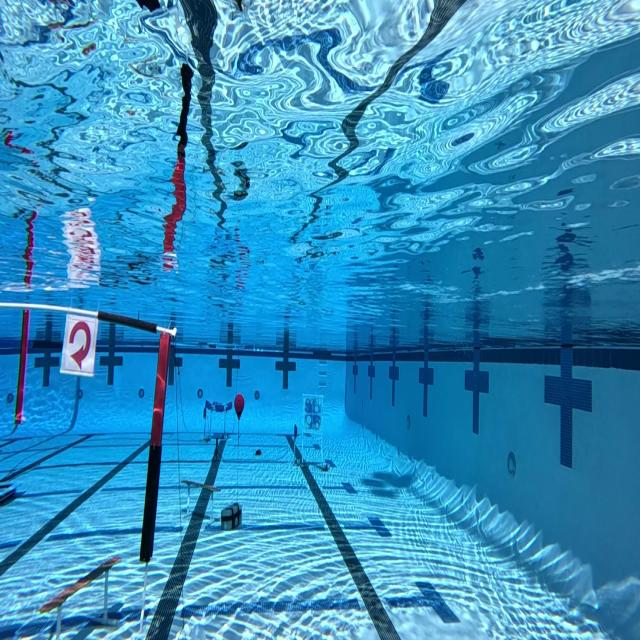red_side: (55, 310, 107, 388)
